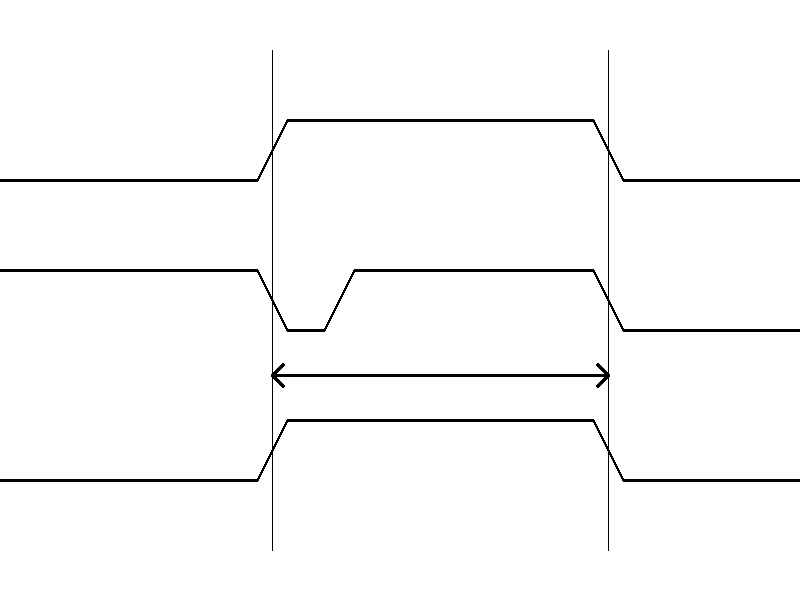double_arrow: (272, 360, 608, 390)
